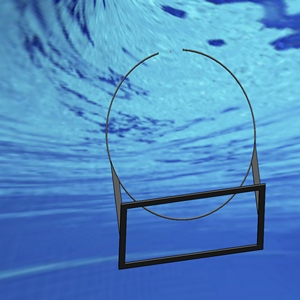circle: (103, 47, 268, 270)
